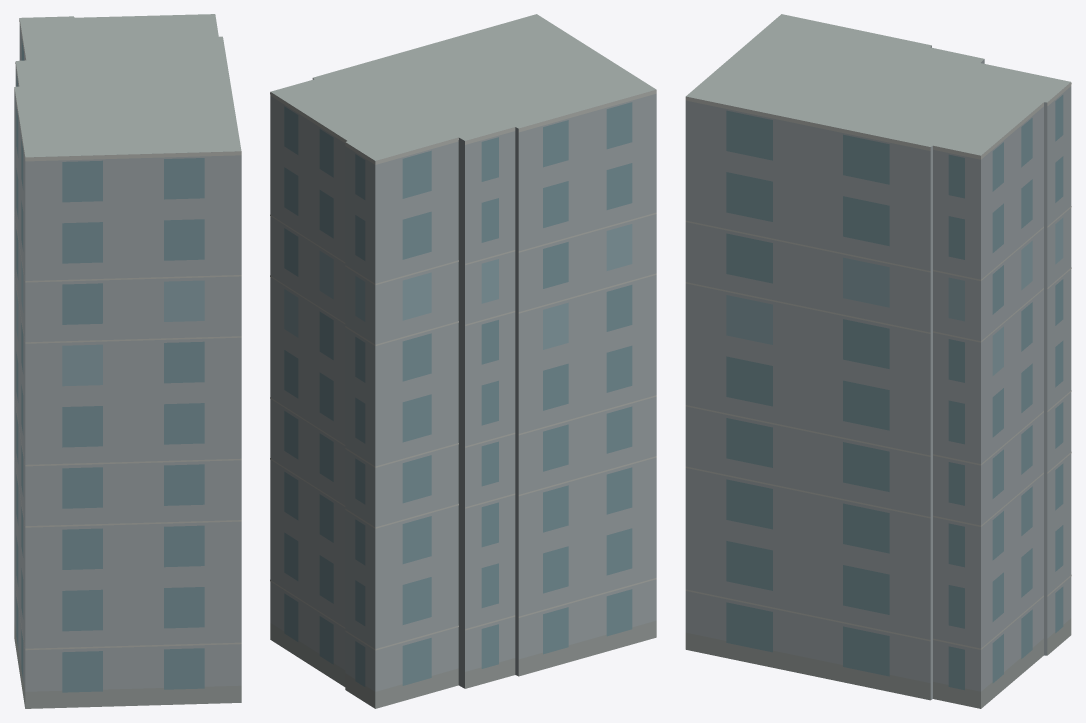
The model's file is survey-upis-32521970.glb.
The picture shows the model from 3 angles, left to right: view 1: azimuth 30°, elevation 25°; view 2: azimuth 150°, elevation 25°; view 3: azimuth 270°, elevation 25°; orthographic projection.
Parts seen in each view (by area): view 1: survey-upis-32521970.tmp; view 2: survey-upis-32521970.tmp; view 3: survey-upis-32521970.tmp.
Boxes of the visible parts, x1,y1,x2,y2 form: survey-upis-32521970.tmp: (14, 14, 241, 708); survey-upis-32521970.tmp: (270, 14, 656, 708); survey-upis-32521970.tmp: (685, 14, 1071, 708).
Bounding box in the file's own units: 18.31 × 33.3 × 21.06.
